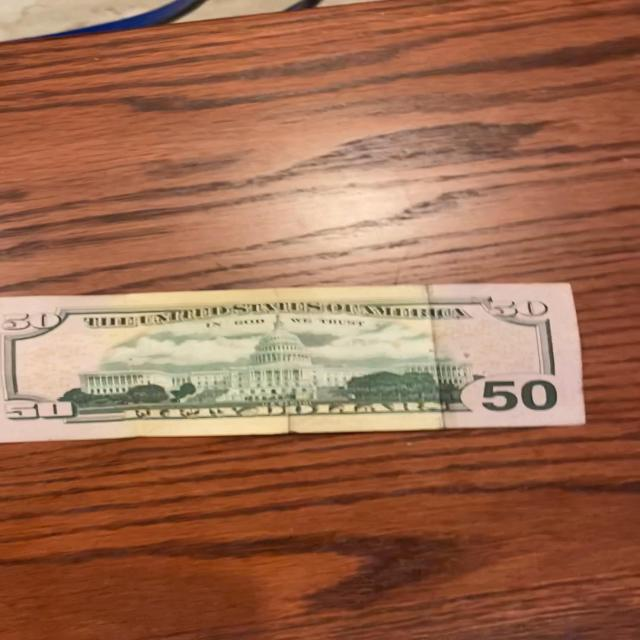50-Back: (0, 271, 601, 448)
